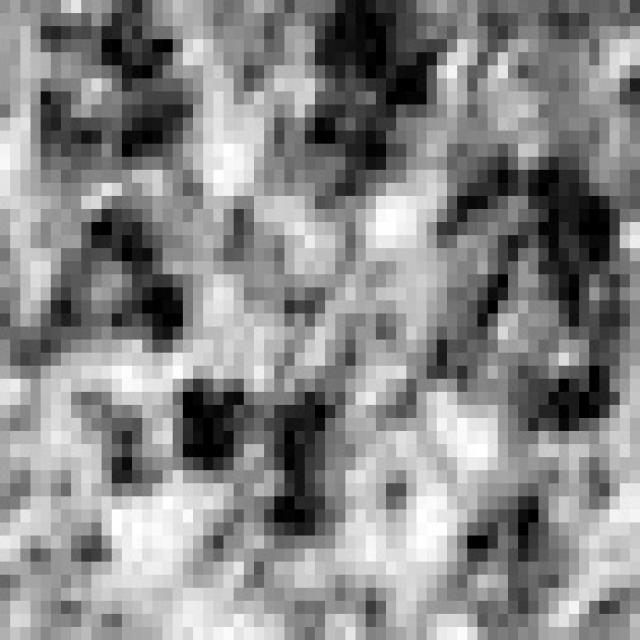inner: (160, 162, 431, 431)
lobe: (430, 132, 633, 446), (267, 2, 461, 222), (22, 4, 210, 211), (145, 383, 353, 545), (15, 209, 192, 364)
outer: (0, 0, 640, 629)
